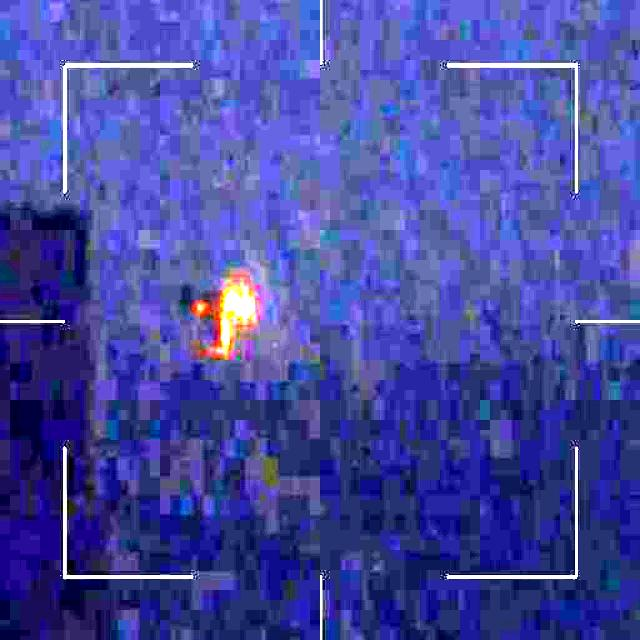bird: (180, 274, 254, 361)
